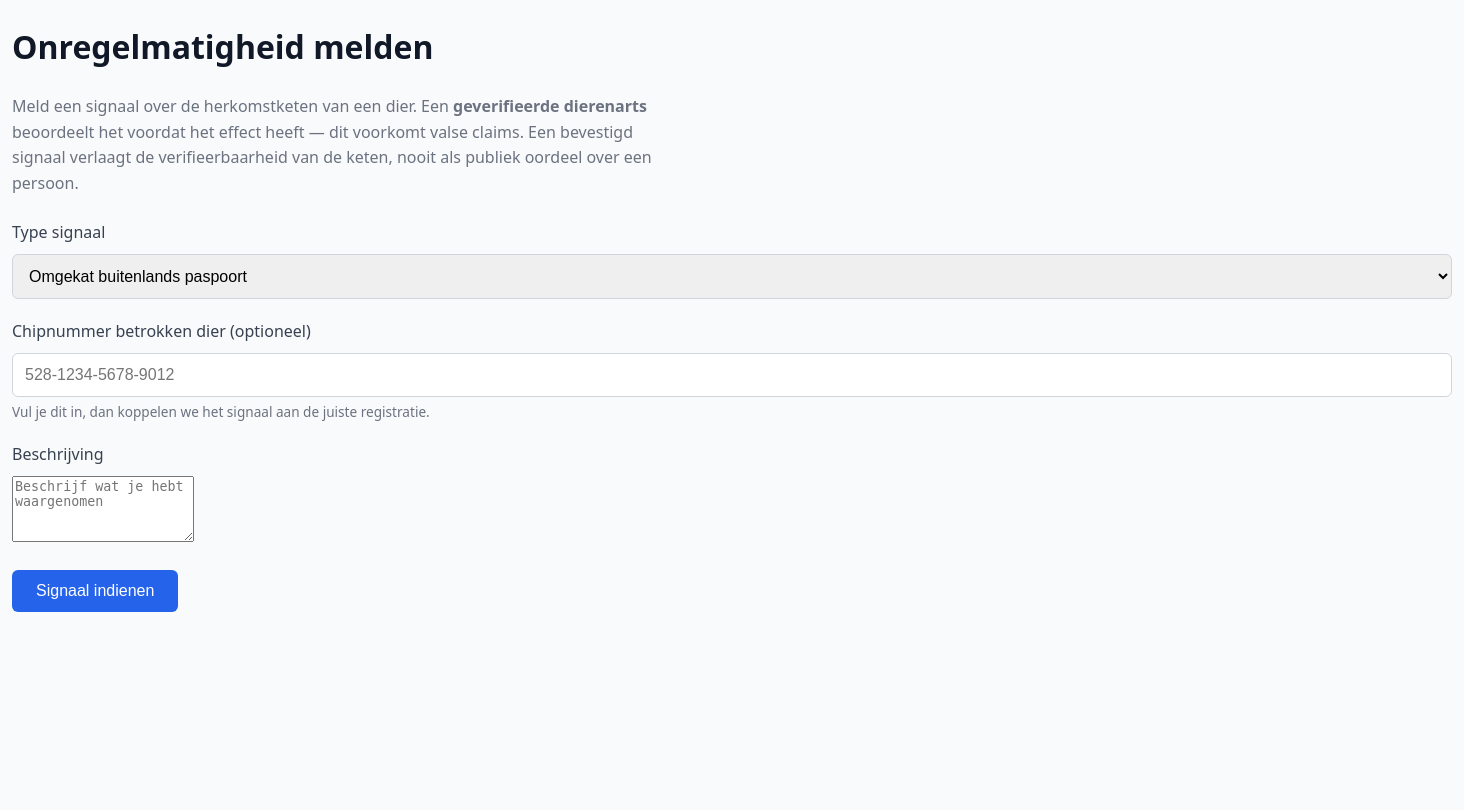
Test: ReportSignal › submits a signal with type, chip and description
The width and height of the screenshot is (1464, 810).
Type "528000000000000" into the field labelled "Chipnummer betrokken dier (optioneel)" at point(732, 375), box x1=12 y1=353 x2=1452 y2=397
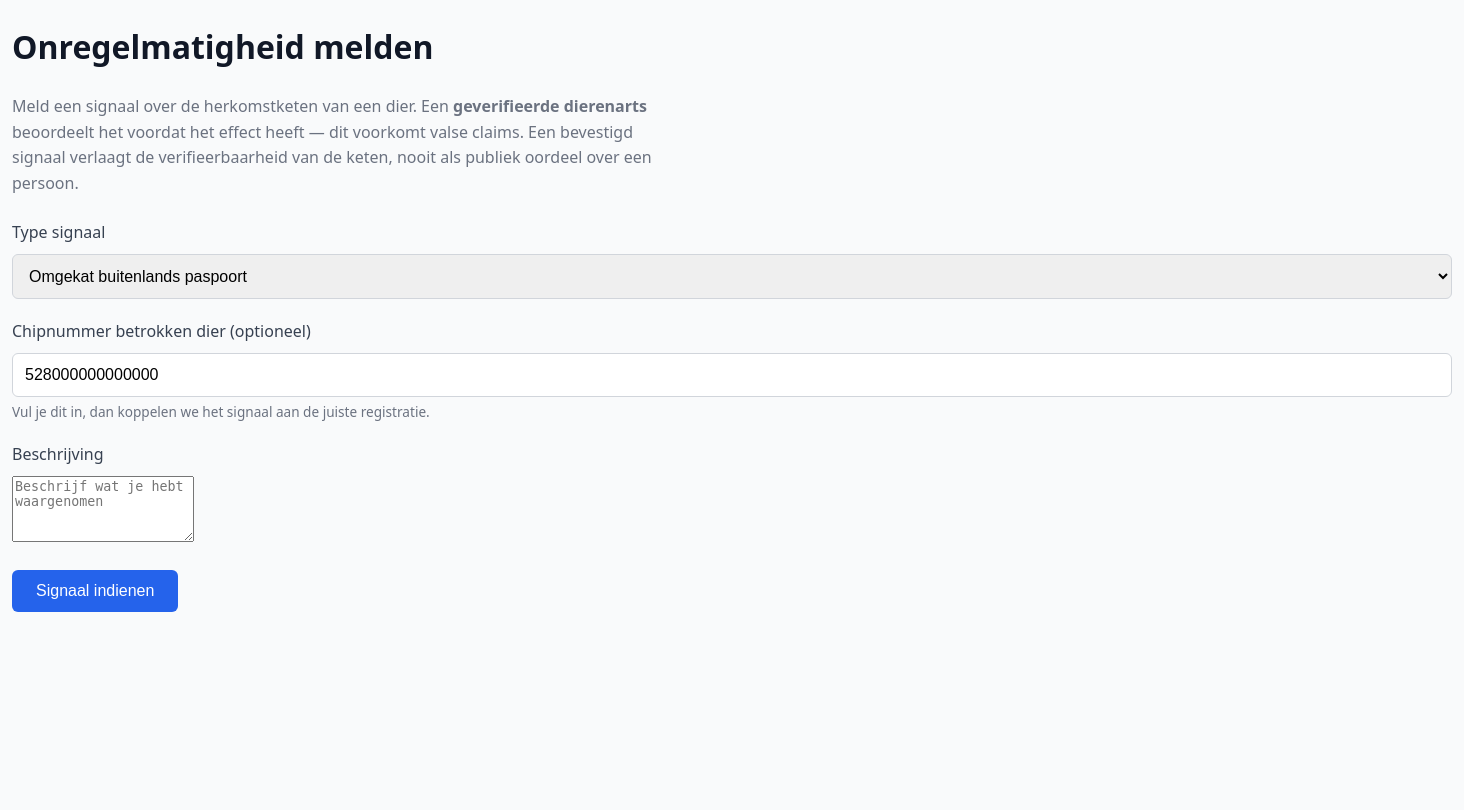
Type "Paspoort zonder bron" into the text box labelled "Beschrijving" at point(103, 509), box x1=12 y1=476 x2=194 y2=542
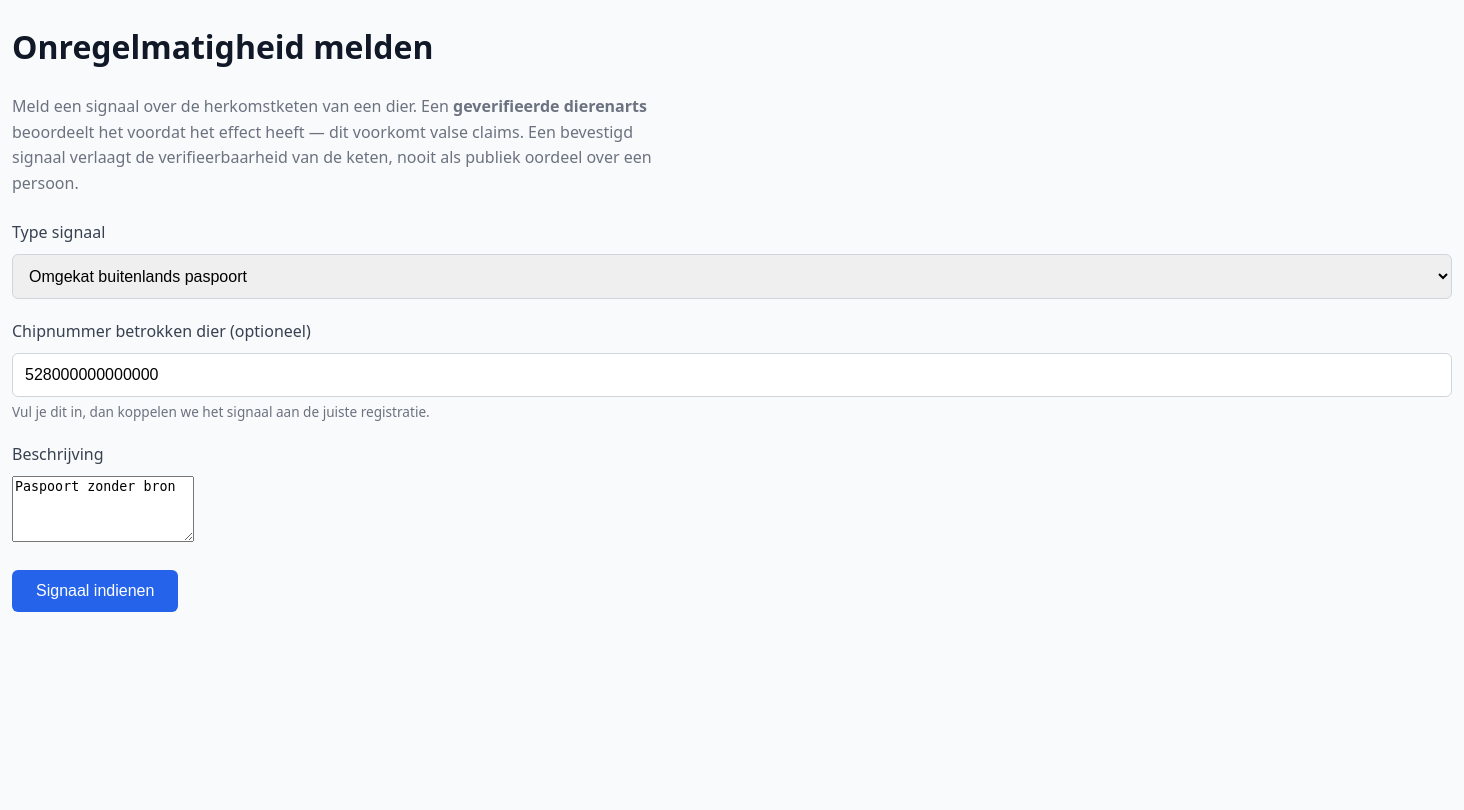
Click the button "Signaal indienen" at point(95, 591), box x1=12 y1=570 x2=178 y2=612
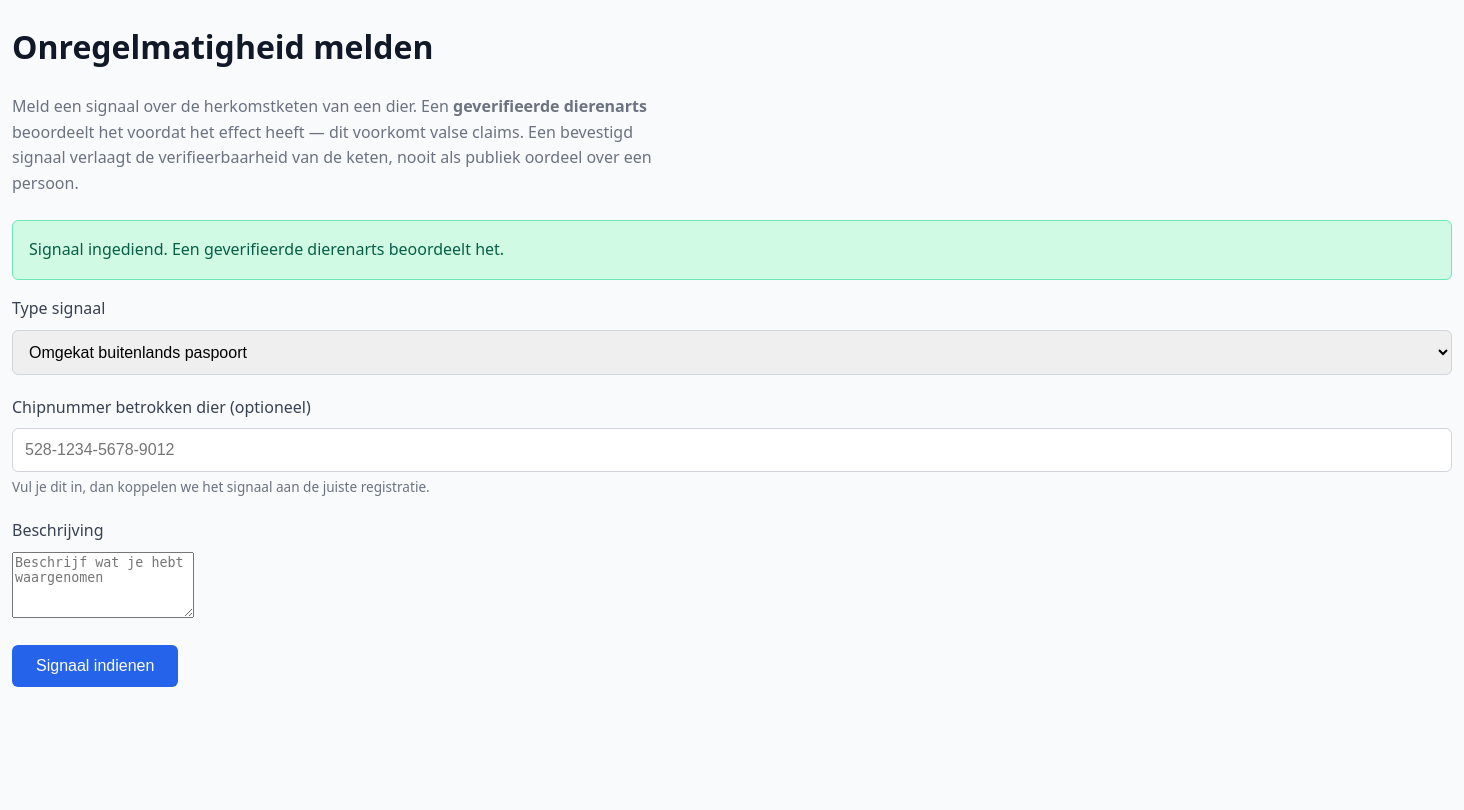
Expected: the text "Een geverifieerde dierenarts beoordeelt" is shown, x1=29 y1=238 x2=504 y2=260
